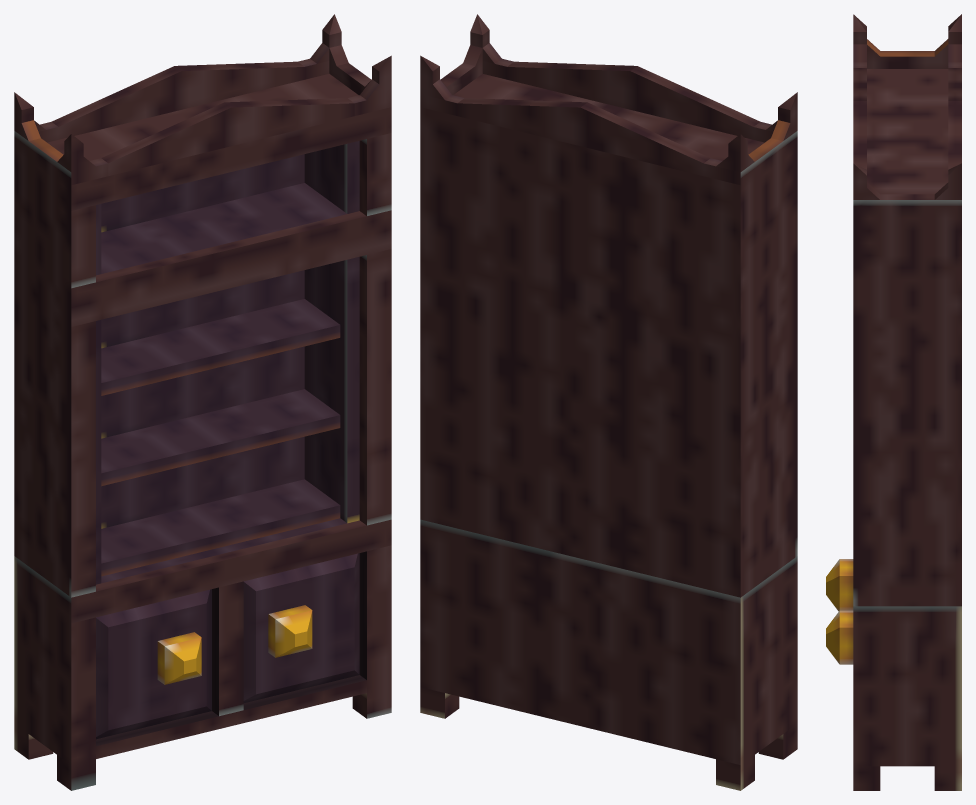
The model's file is BookshelfShort.fbx.
3 views of the same model, side by side, from view 1: azimuth 30°, elevation 25°; view 2: azimuth 150°, elevation 25°; view 3: azimuth 270°, elevation 25° (orthographic). The views are drawn at different scales.
Parts seen in each view (by area): view 1: Cube.015; view 2: Cube.015; view 3: Cube.015.
Boxes of the visible parts, bbox=[...] form: Cube.015: bbox=[14, 14, 391, 790]; Cube.015: bbox=[420, 14, 797, 790]; Cube.015: bbox=[826, 14, 961, 790].
Bounding box in the file's own units: 1.62 × 0.625 × 3.19.
